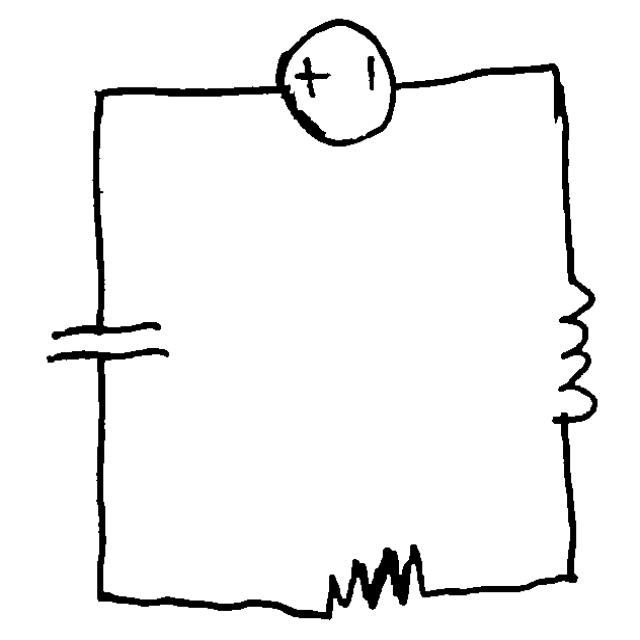capacitor: (36, 300, 180, 384)
dc: (268, 13, 407, 152)
inductor: (532, 266, 609, 440)
resistor: (312, 534, 441, 629)
